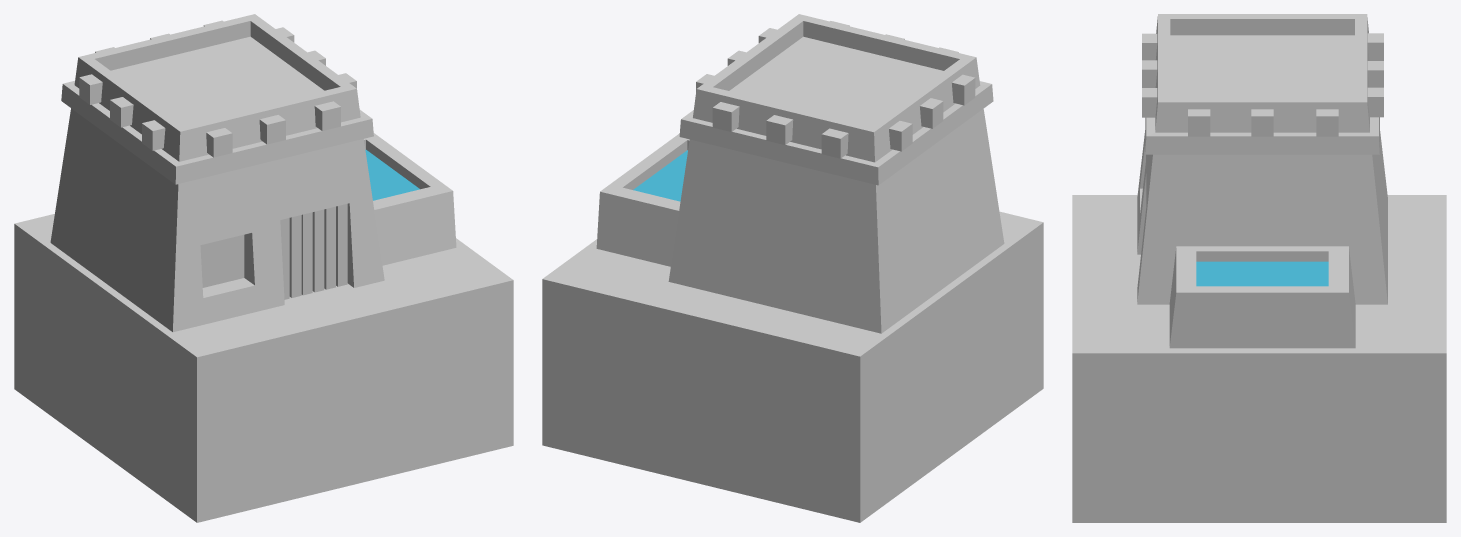
File: EgyptHouse2.fbx
The picture shows the model from 3 angles, left to right: view 1: azimuth 30°, elevation 25°; view 2: azimuth 150°, elevation 25°; view 3: azimuth 270°, elevation 25°; orthographic projection. The views are drawn at different scales.
Visible parts, largest first — view 1: EgyptHouse2; view 2: EgyptHouse2; view 3: EgyptHouse2.
Part boxes in pixels (x1,y1,x2,y2): EgyptHouse2: (14,14,513,522); EgyptHouse2: (542,14,1043,522); EgyptHouse2: (1072,14,1446,522).
Bounding box in the file's own units: 2 × 2 × 2.14.
